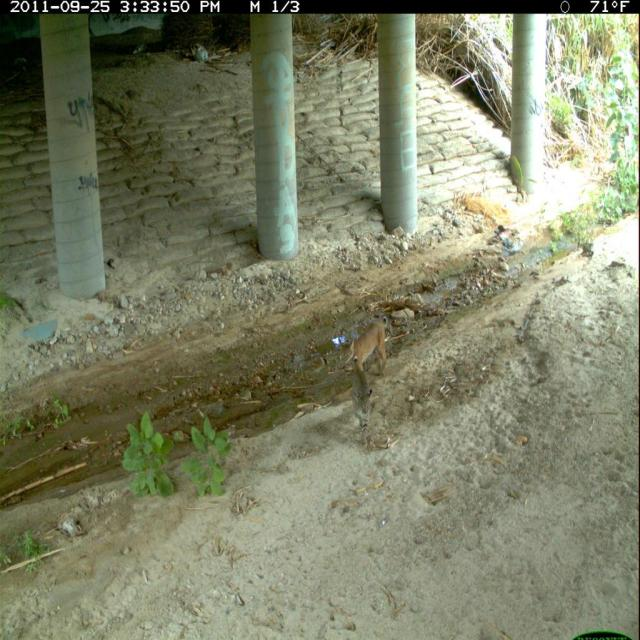bobcat: (337, 314, 393, 383), (347, 356, 377, 453)
